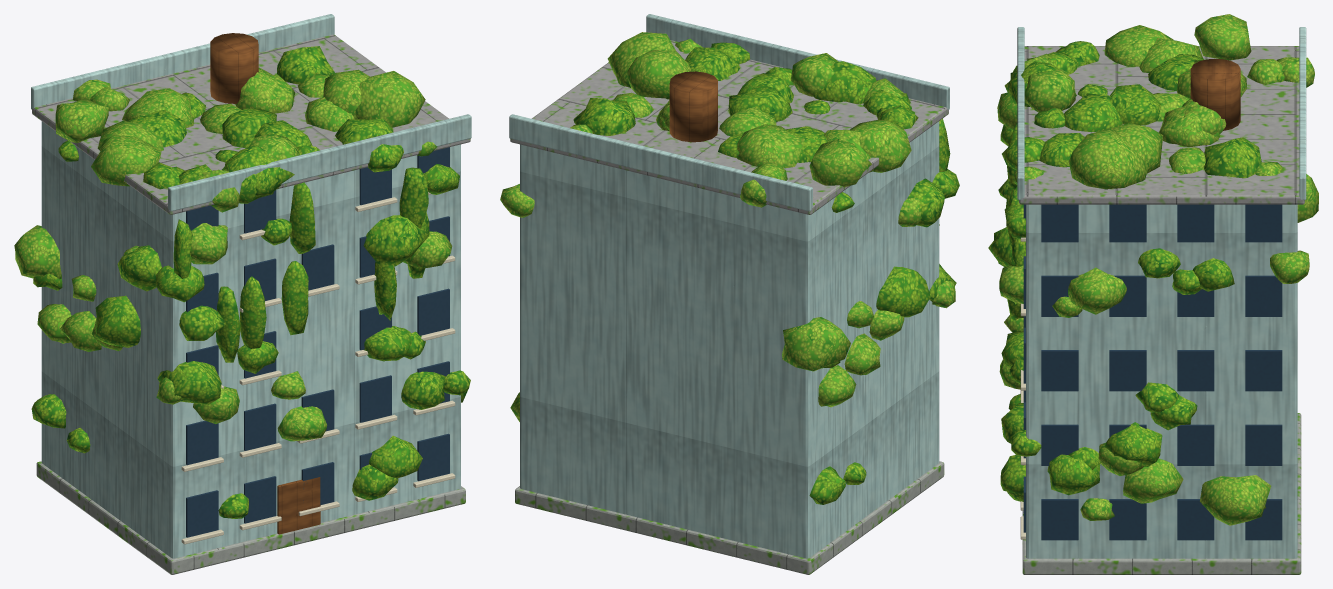
File: building-ivy-b.glb
3 renders of one model, left to right at view 1: azimuth 30°, elevation 25°; view 2: azimuth 150°, elevation 25°; view 3: azimuth 270°, elevation 25°, orthographic. The views are drawn at different scales.
Visible parts, largest first — view 1: building-ivy-b; view 2: building-ivy-b; view 3: building-ivy-b.
Part boxes in pixels (x1,y1,x2,y2): building-ivy-b: [14, 14, 471, 574]; building-ivy-b: [500, 14, 959, 574]; building-ivy-b: [988, 14, 1318, 574].
Bounding box in the file's own units: 5.82 × 6.75 × 4.63.
Materials: 8 (8 with a texture image).
